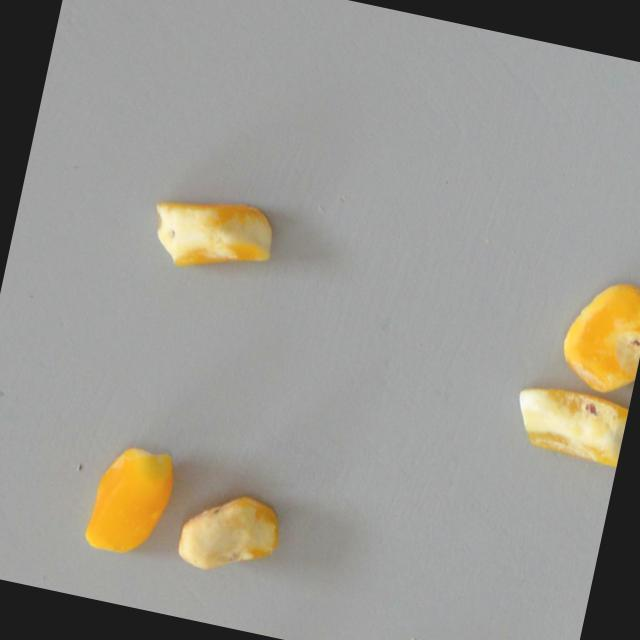dañado: (79, 436, 182, 570), (170, 479, 291, 585), (504, 375, 631, 472)
punto_negro: (136, 182, 284, 288), (551, 268, 640, 404)
